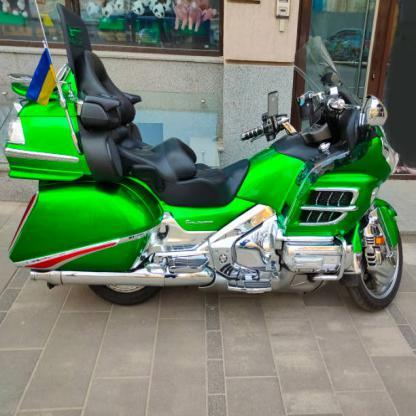Motorcycle: (7, 44, 408, 313)
